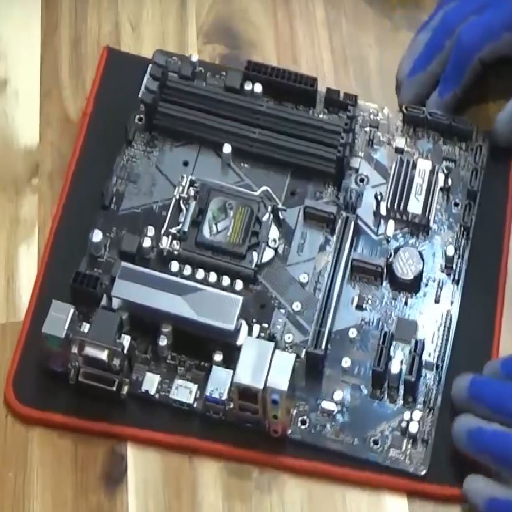CPU: (160, 175, 280, 281)
GPU: (305, 186, 365, 365)
MOTHERBOARD: (45, 46, 495, 481)
RAM: (136, 54, 360, 180)
SSD: (302, 200, 340, 232), (349, 252, 386, 284)
